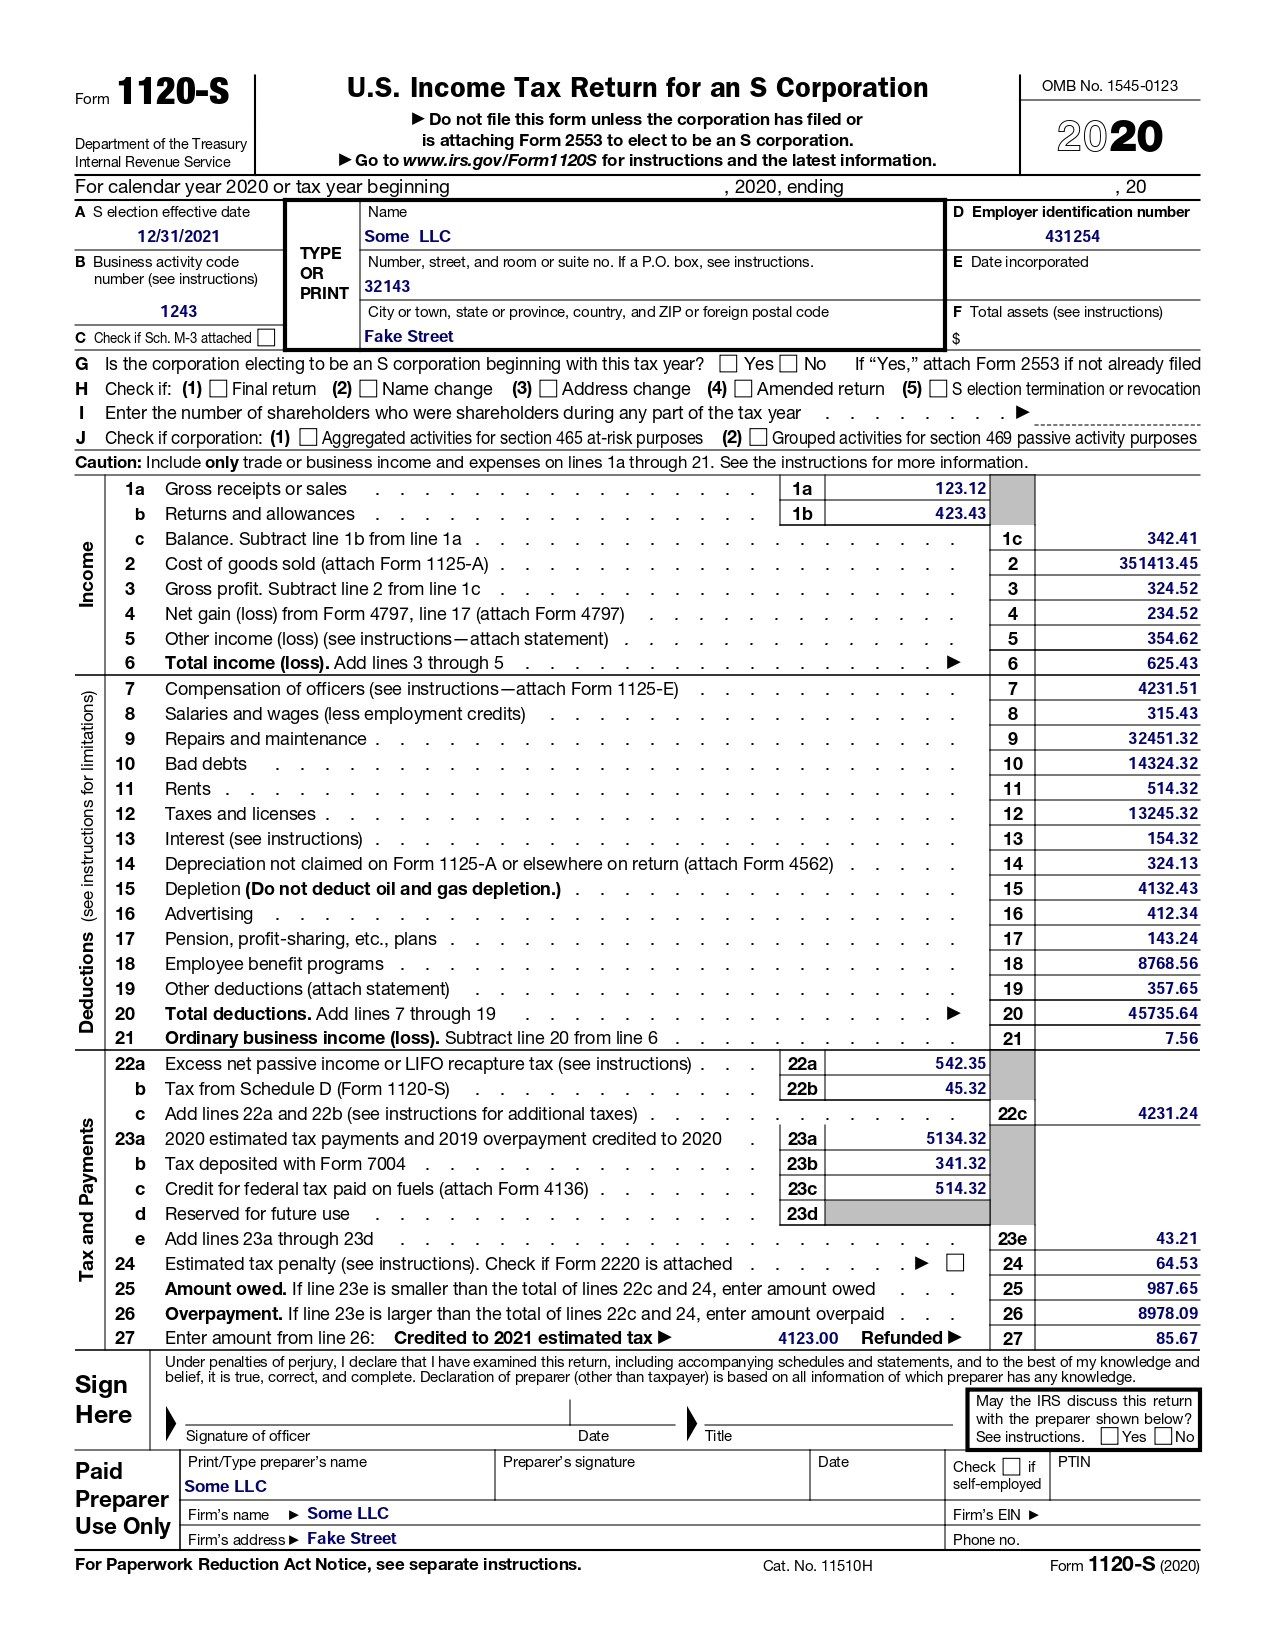form: (49, 69, 1224, 470), (44, 1354, 1229, 1554)
table: (46, 478, 1226, 1347)
